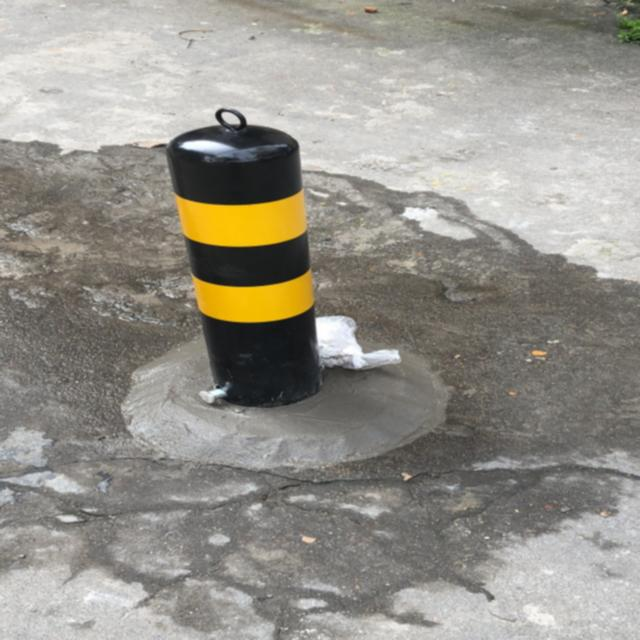warning_column: (167, 123, 334, 410)
